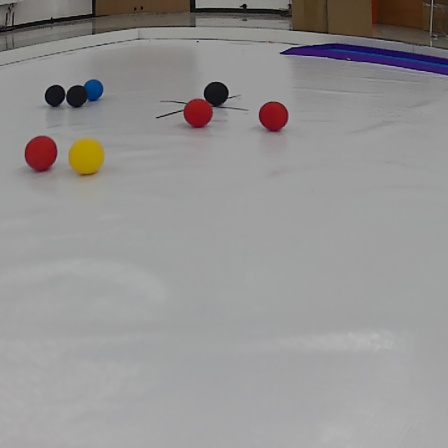black: (199, 80, 231, 104), (42, 83, 68, 109), (66, 87, 86, 109)
blue: (82, 80, 105, 101)
blue_aim: (281, 36, 448, 78)
red: (256, 97, 295, 131), (22, 136, 57, 172), (182, 98, 214, 128)
yellow: (68, 137, 104, 176)
